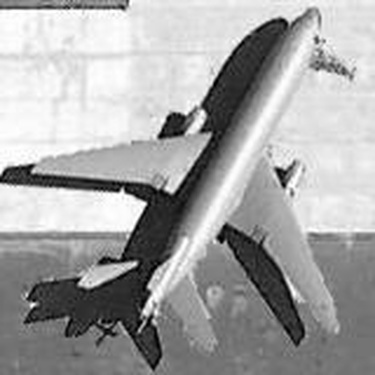airplane: (15, 1, 359, 360)
